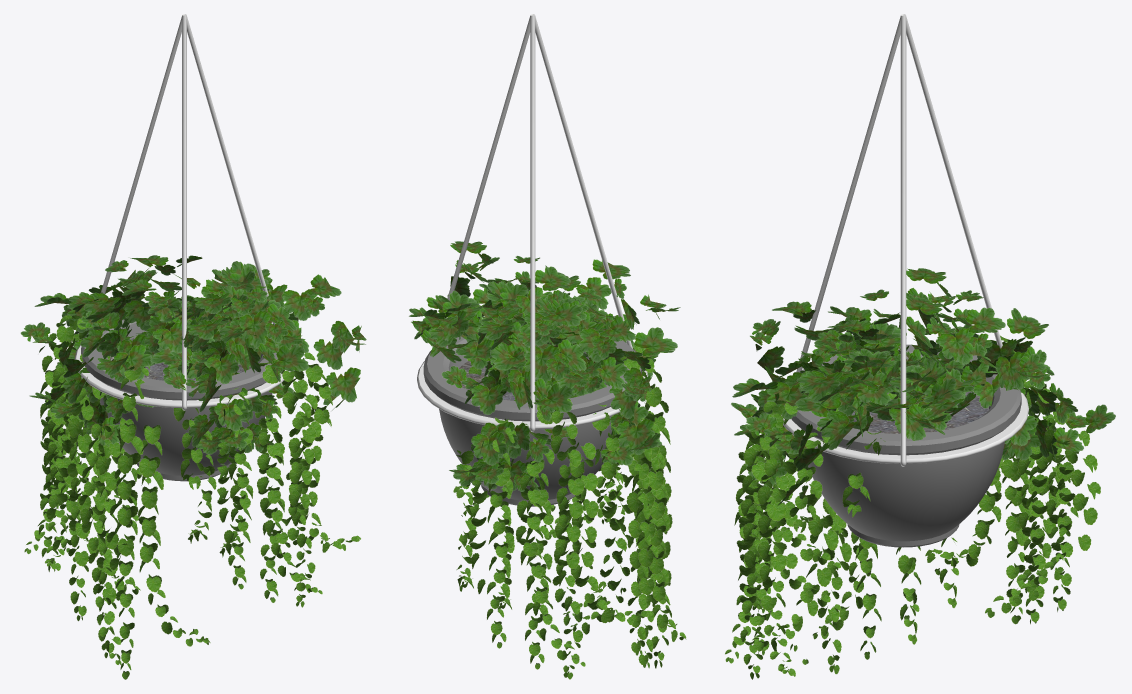
Rendered from hangingplant.gltf.
The picture shows the model from 3 angles, left to right: view 1: azimuth 30°, elevation 25°; view 2: azimuth 150°, elevation 25°; view 3: azimuth 270°, elevation 25°; orthographic projection. The views are drawn at different scales.
Parts seen in each view (by area): view 1: Material2 (×16); view 2: Material2 (×25); view 3: Material2 (×17).
Boxes of the visible parts, box(x1,y1,x2,y2) form: Material2 (×16): box(74, 14, 360, 481); Material2 (×25): box(417, 14, 677, 506); Material2 (×17): box(766, 14, 1048, 547).
Bounding box in the file's own units: 15.47 × 33.85 × 17.33.
Materials: 5 (3 with a texture image).
